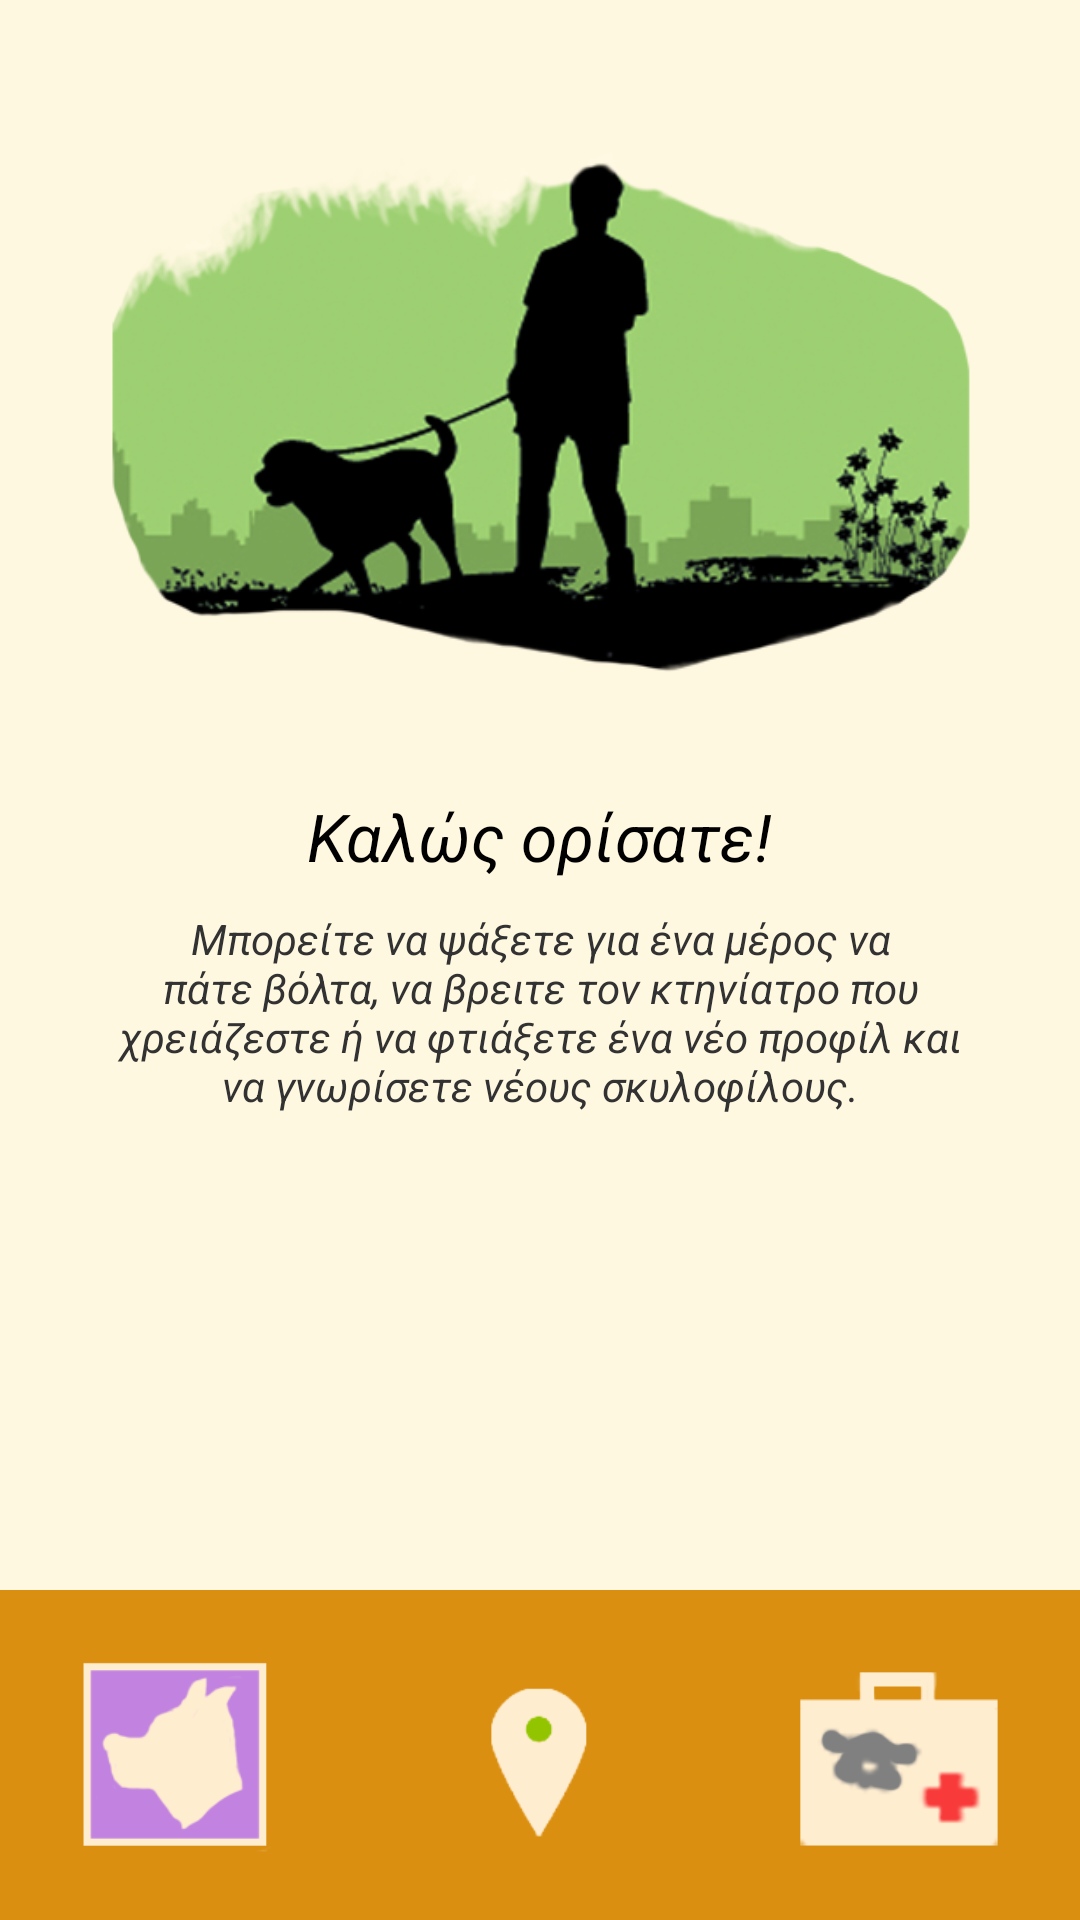

Where icons sit on this 1080×1920 app screen, as [x1=x1, y1=y1, x2=x2, y2=y2]:
location: [x1=491, y1=1688, x2=587, y2=1837]
profile: [x1=83, y1=1663, x2=267, y2=1851]
vet: [x1=800, y1=1672, x2=998, y2=1846]
